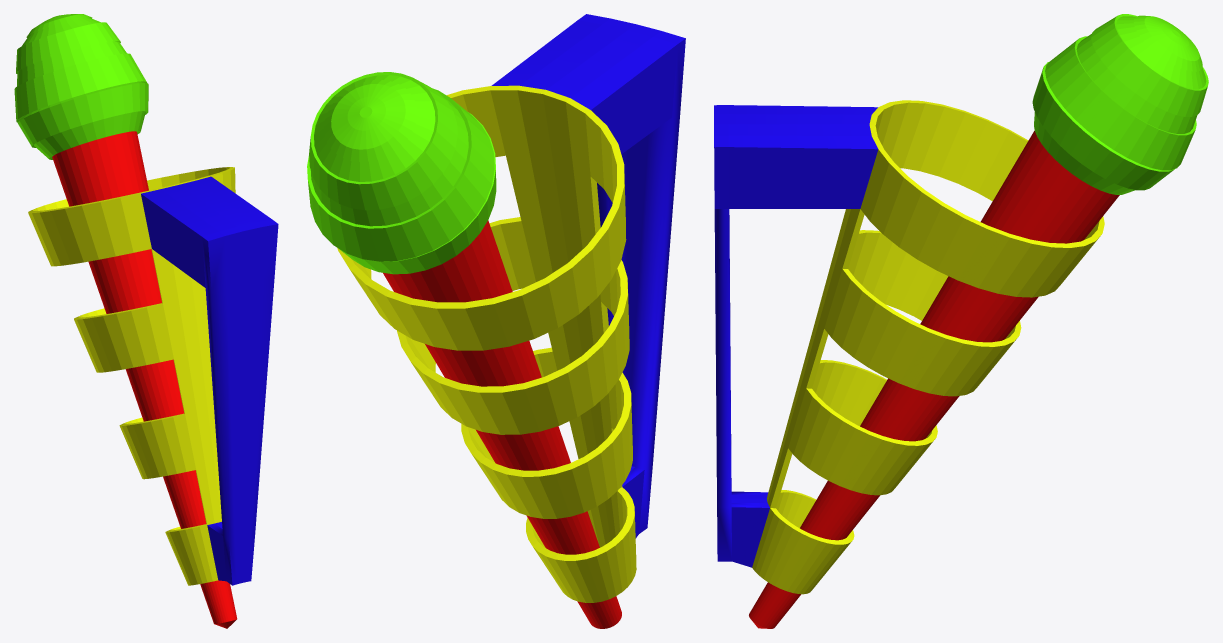
File: Torce & Sconce.fbx
The picture shows the model from 3 angles, left to right: view 1: azimuth 30°, elevation 25°; view 2: azimuth 150°, elevation 25°; view 3: azimuth 270°, elevation 25°; orthographic projection. The views are drawn at different scales.
Parts seen in each view (by area): view 1: egyptian_torch_sconce; view 2: egyptian_torch_sconce; view 3: egyptian_torch_sconce.
Part boxes in pixels (x1,y1,x2,y2): egyptian_torch_sconce: (14, 14, 278, 628); egyptian_torch_sconce: (307, 14, 685, 628); egyptian_torch_sconce: (714, 14, 1208, 628).
Size of the model in its own units: 31.02 by 80.04 by 59.1.
